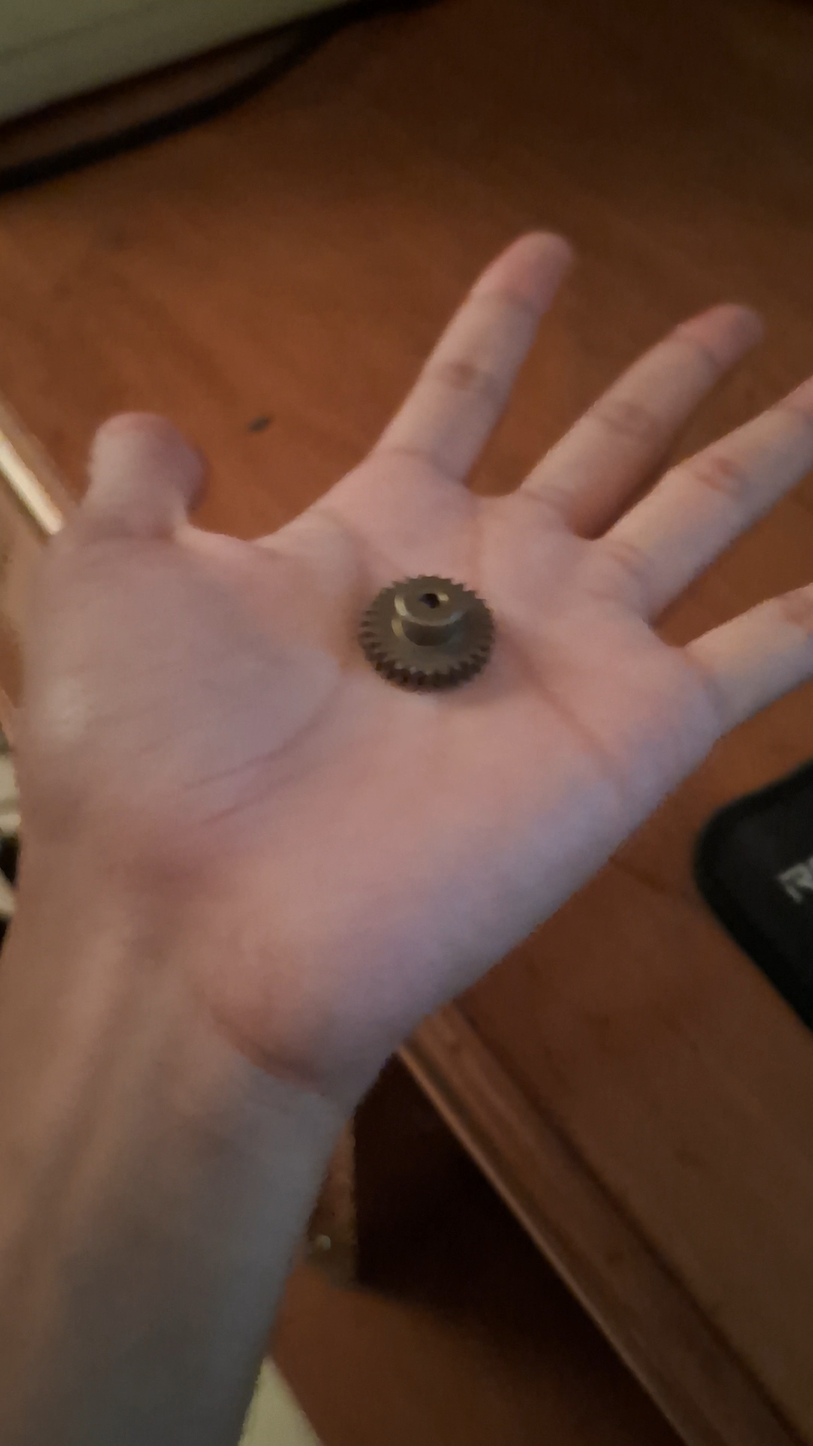spur gear: (359, 576, 494, 690)
